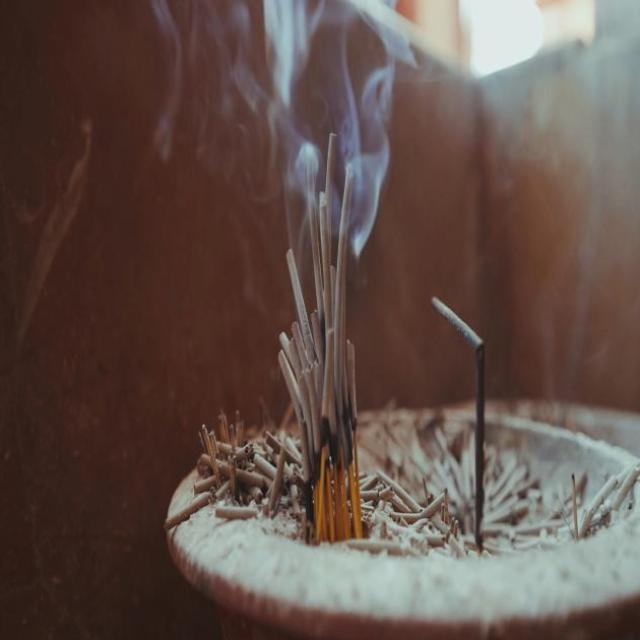fire: (156, 0, 418, 267)
